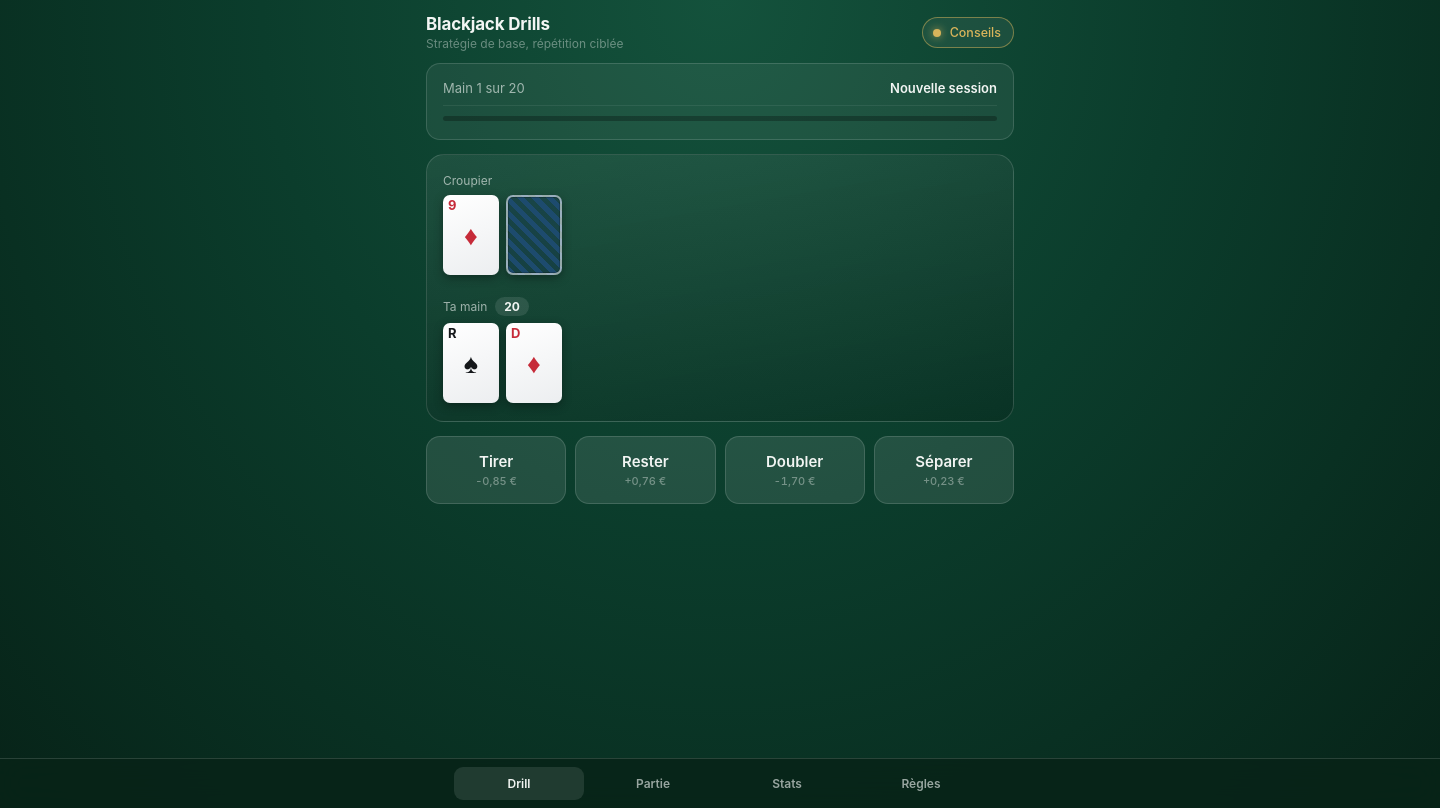
Scenario: écrans de référence › montre le bilan de partie séparant variance et jeu
The width and height of the screenshot is (1440, 808).
Click the button "Stats" at (787,784), box [722,767,852,800]
(page scrolled)
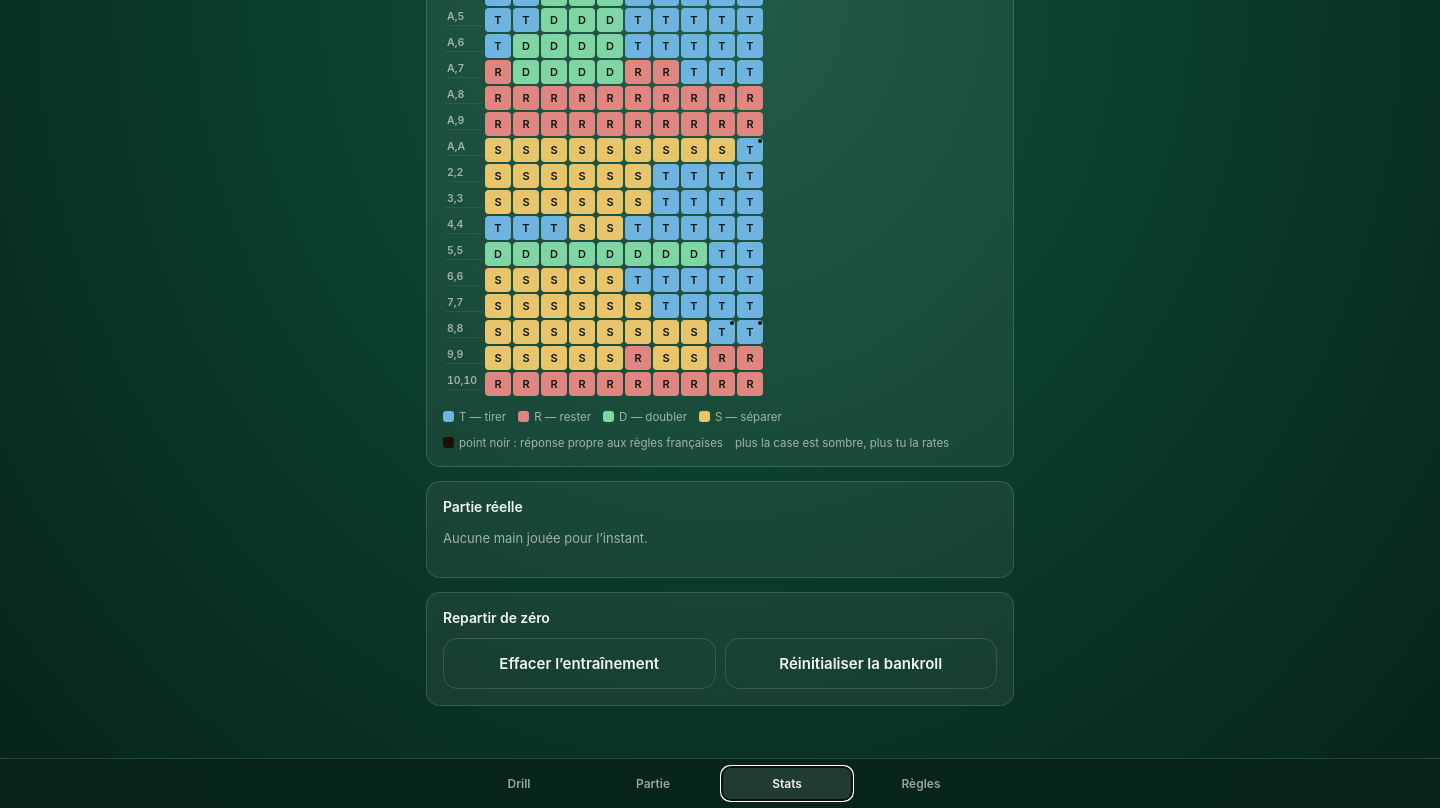
Check: the heading "Partie réelle" is shown, box [443,498,523,515]
Check: the text "Aucune main jouée pour l’instant." is shown, box [443,530,648,546]
